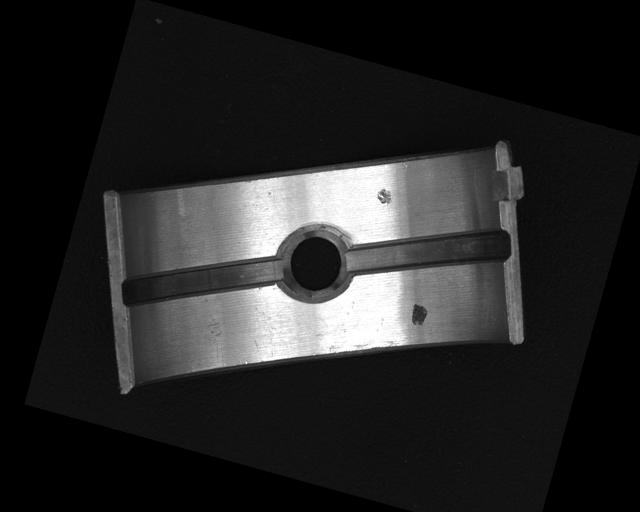blot: (407, 301, 430, 328)
bruise: (374, 185, 395, 206)
gap: (342, 191, 515, 314), (117, 219, 289, 342)
hole: (275, 217, 357, 304)
